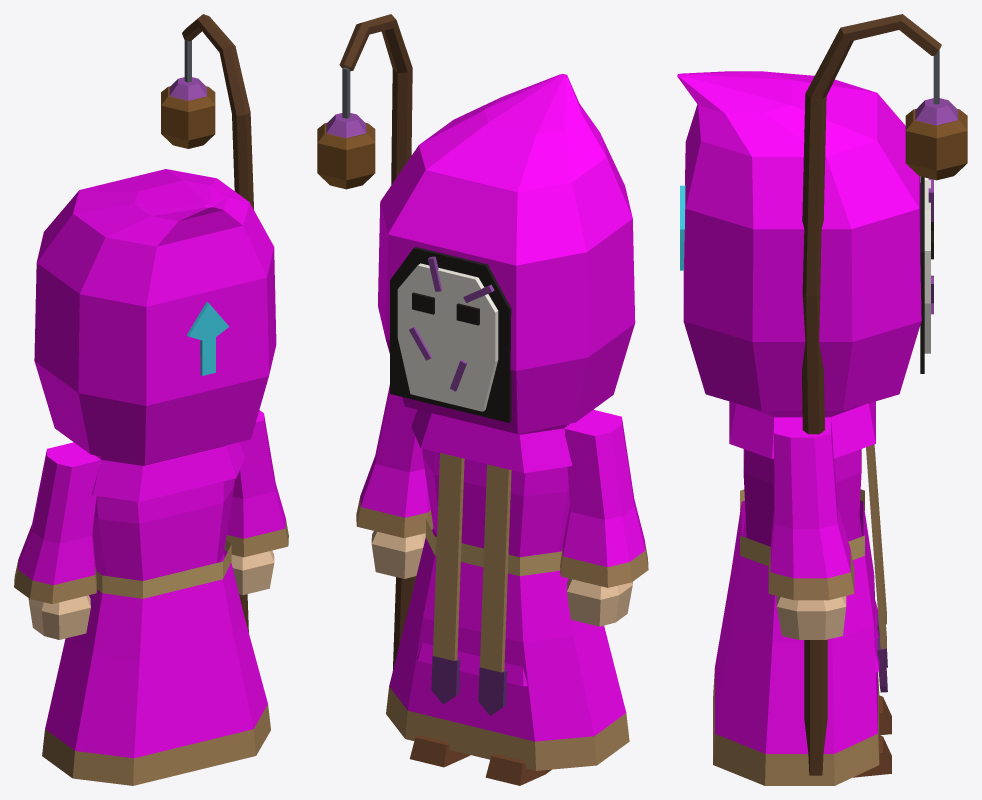
Rendered from CH_AshenOracle_BoneOracle.fbx.
3 renders of one model, left to right at view 1: azimuth 30°, elevation 25°; view 2: azimuth 150°, elevation 25°; view 3: azimuth 270°, elevation 25°, orthographic. The views are drawn at different scales.
Visible parts, largest first — view 1: Head, Body, ArmR, ArmL; view 2: Head, Body, ArmR, ArmL, LegL, LegR; view 3: Head, Body, ArmR, LegR.
Boxes of the visible parts, bbox=[...] form: Head: bbox=[34, 169, 276, 464]; Body: bbox=[42, 442, 270, 785]; ArmR: bbox=[161, 14, 288, 632]; ArmL: bbox=[14, 442, 100, 639]; Head: bbox=[378, 74, 635, 433]; Body: bbox=[386, 409, 629, 770]; ArmR: bbox=[317, 14, 433, 669]; ArmL: bbox=[560, 409, 648, 626]; LegL: bbox=[485, 753, 551, 785]; LegR: bbox=[409, 735, 470, 767]; Head: bbox=[677, 71, 933, 410]; Body: bbox=[713, 401, 887, 785]; ArmR: bbox=[768, 14, 967, 775]; LegR: bbox=[853, 735, 891, 777].
Size of the model in its own units: 0.7624 by 0.6493 by 1.93.
